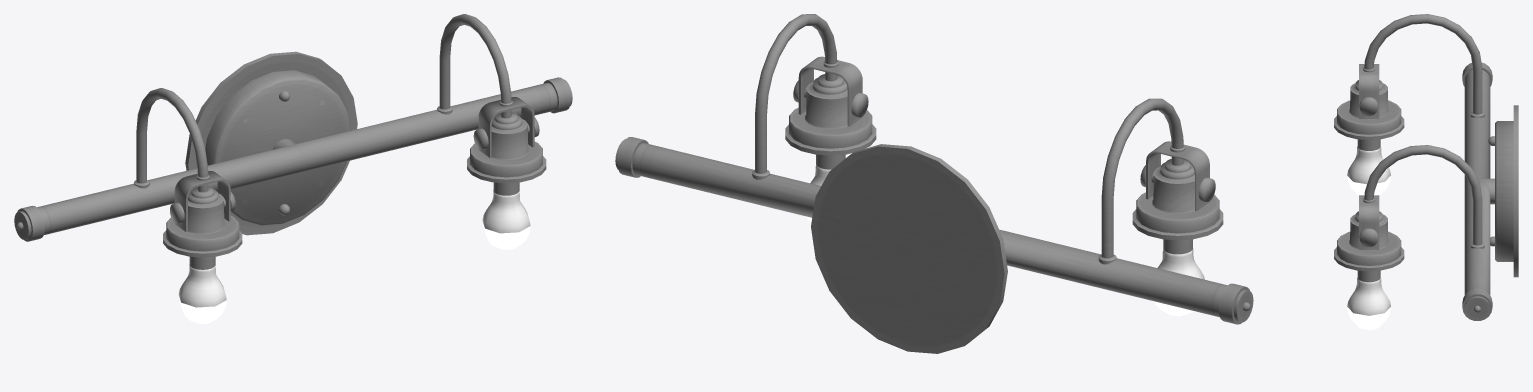
The picture shows the model from 3 angles, left to right: view 1: azimuth 30°, elevation 25°; view 2: azimuth 150°, elevation 25°; view 3: azimuth 270°, elevation 25°; orthographic projection. The views are drawn at different scales.
Parts seen in each view (by area): view 1: Lamp_low; view 2: Lamp_low; view 3: Lamp_low.
Part boxes in pixels (box(x1,y1,x2,y2)): Lamp_low: box(14, 14, 572, 323); Lamp_low: box(615, 14, 1253, 353); Lamp_low: box(1334, 14, 1518, 330).
Bounding box in the file's own units: 2 × 0.7916 × 0.7815.
1 material, 1 textured.
